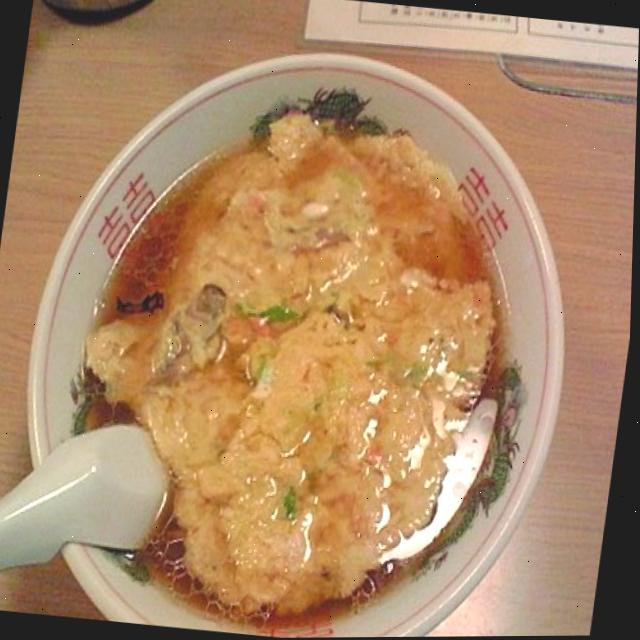面条主食: (0, 16, 603, 640)
